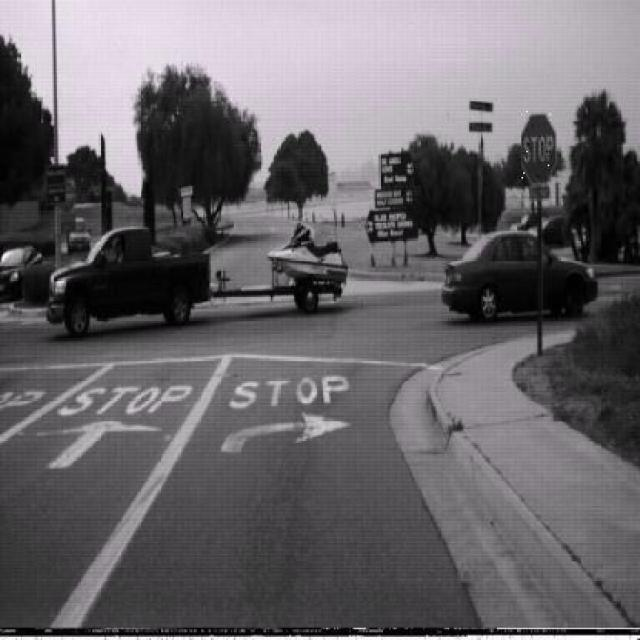stop: (520, 111, 557, 187)
